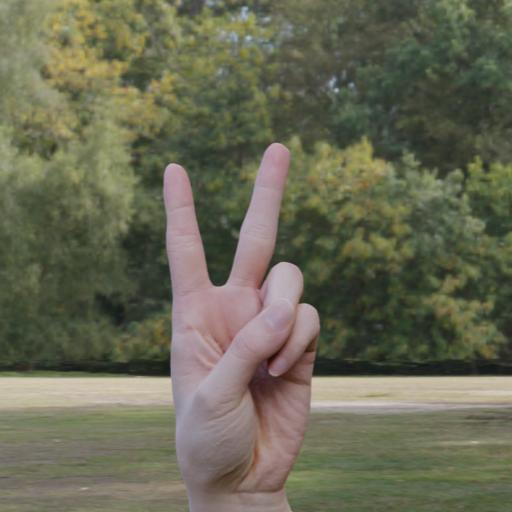V: (130, 96, 367, 512)
